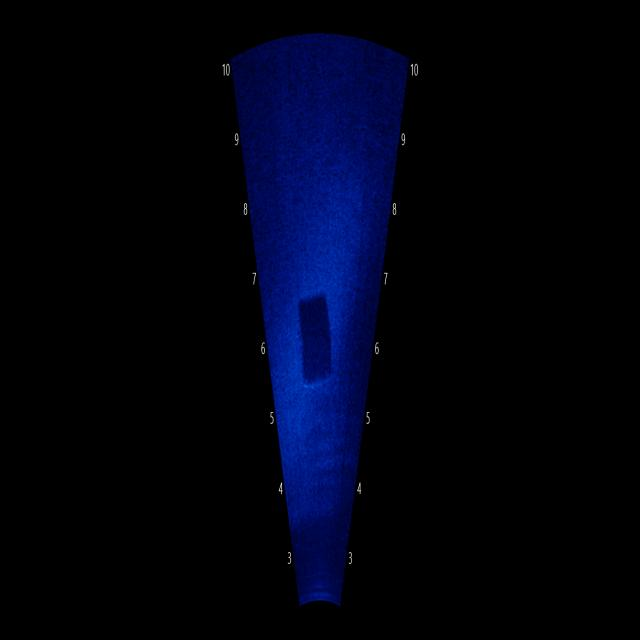square: (283, 245, 355, 418)
